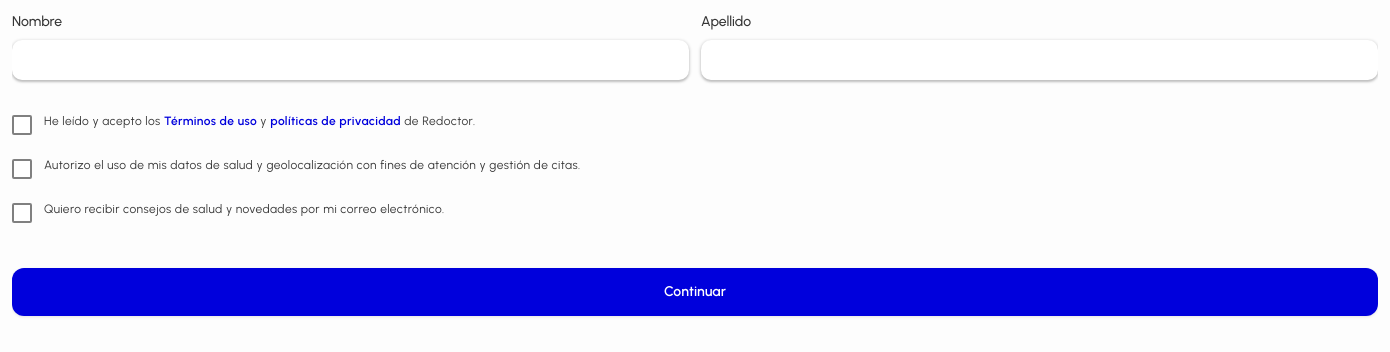
Test case: PatientSignUpForm › says it could not save when the API fails, and keeps the form
In the field labelled "Nombre": (350, 60) [13,41,688,79], type "Ana"
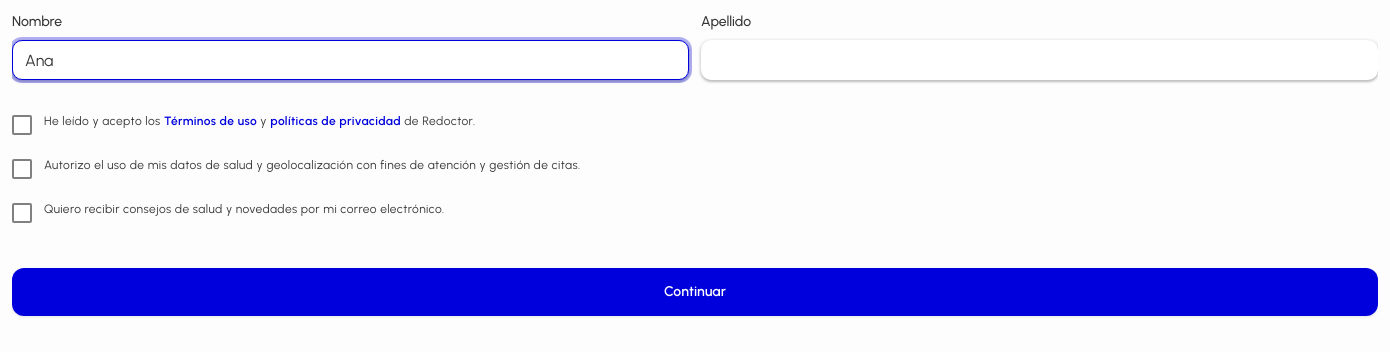
In the field labelled "Apellido": (1040, 60) [702,41,1377,79], type "Pérez"
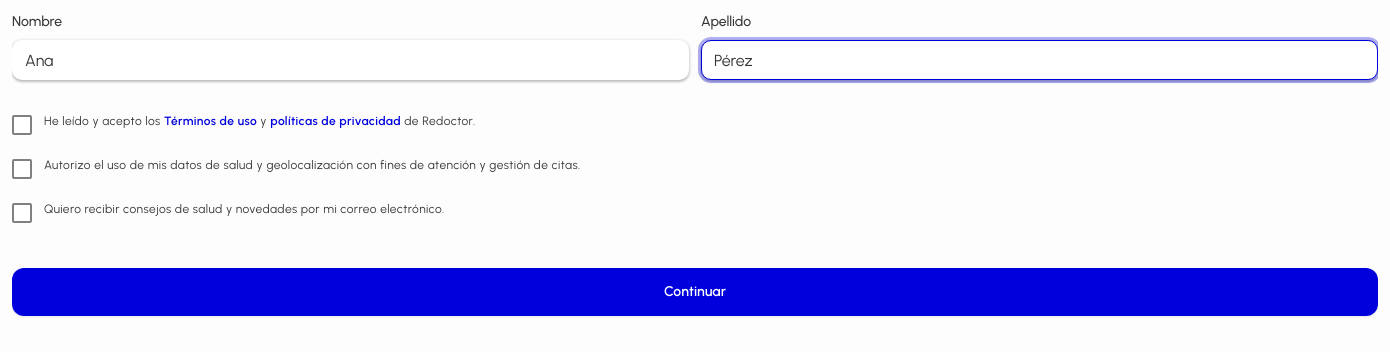
Click the checkbox labelled "He leído": click(22, 125) [12,115,32,135]
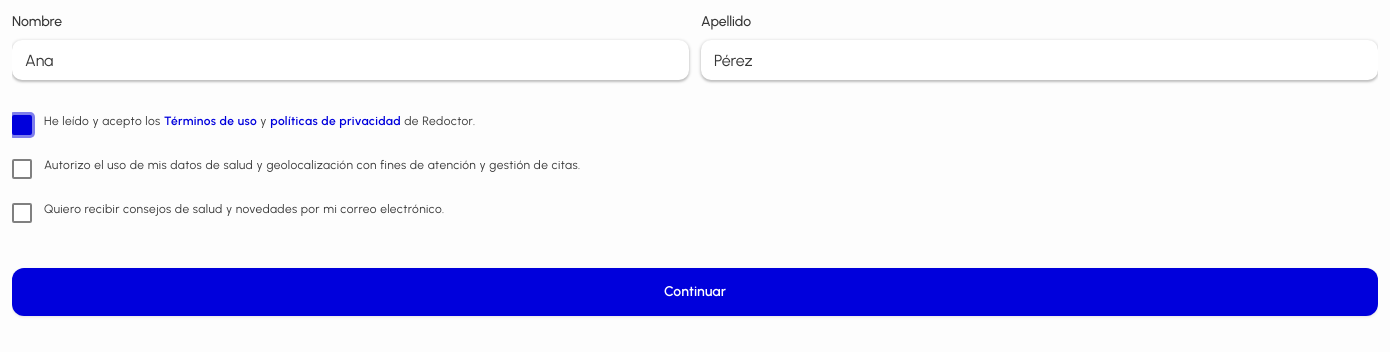
Click the checkbox labelled "Autorizo": click(22, 169) [12,159,32,179]
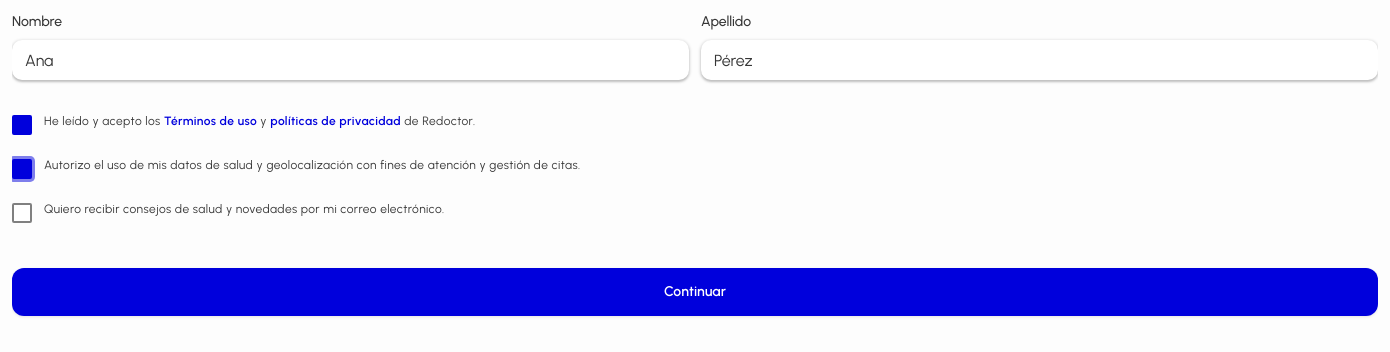
Click the button "Continuar": click(695, 292) [12,268,1378,316]
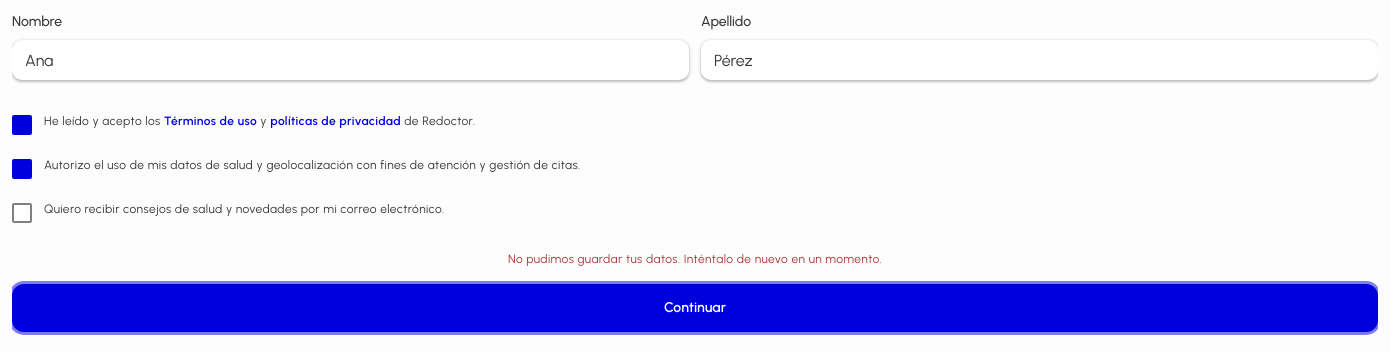
expect the text "No pudimos guardar tus datos. Inténtalo de nuevo en un momento." is shown: met, box [508,252,882,266]
